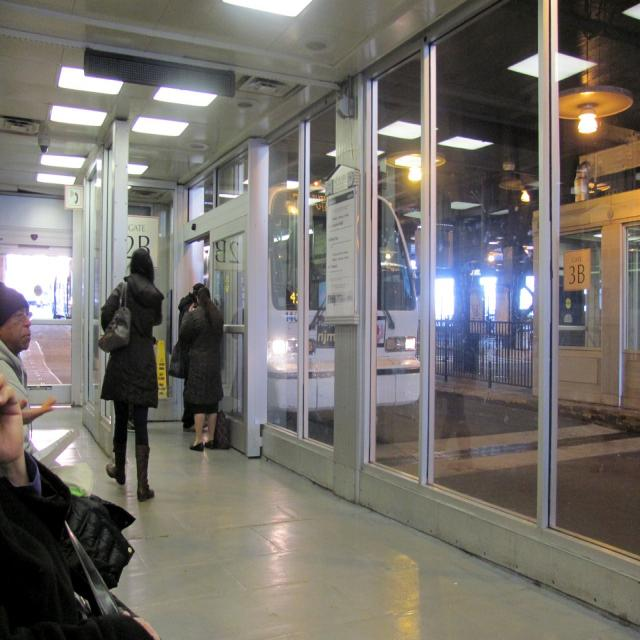body: (0, 371, 204, 637), (229, 214, 309, 442), (95, 246, 165, 505), (441, 252, 486, 478), (178, 286, 224, 452), (1, 280, 39, 457), (177, 282, 205, 433), (174, 237, 228, 276)
